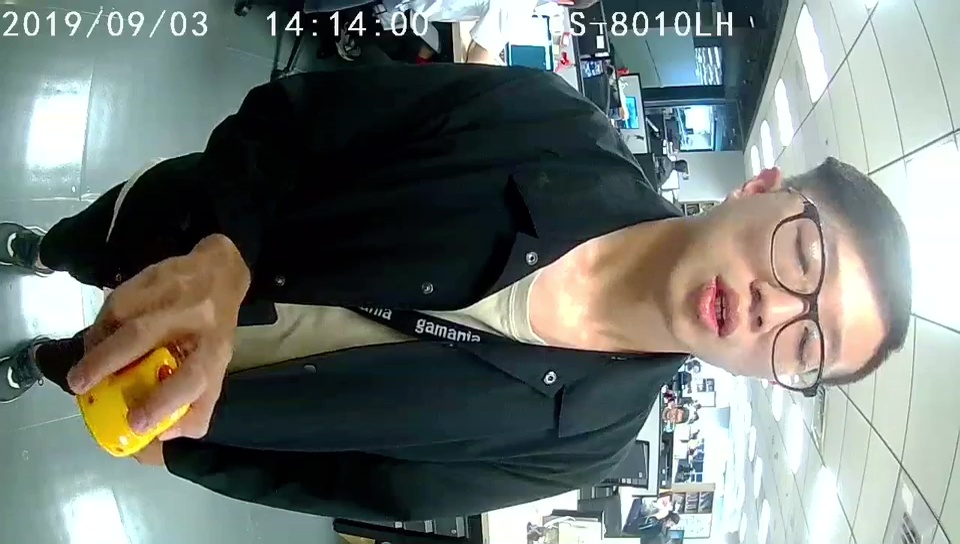car: (77, 345, 192, 458)
